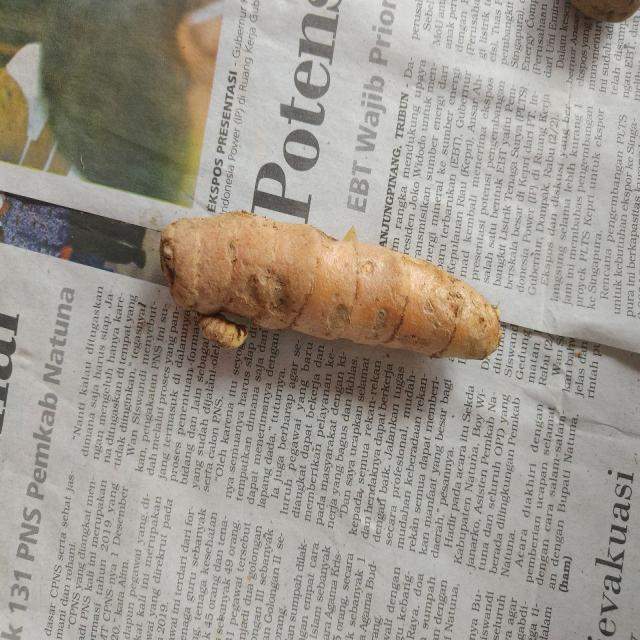ginger: (162, 194, 506, 382)
